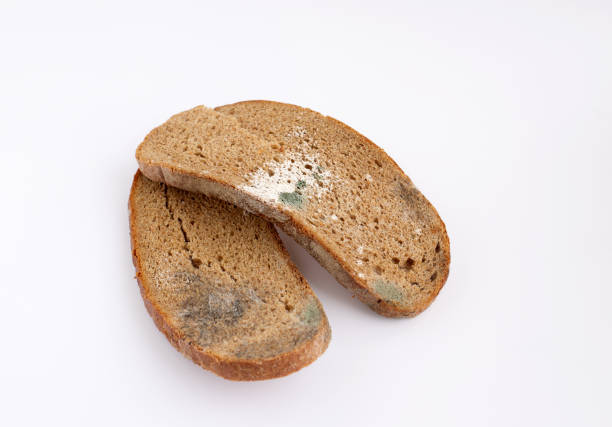mold_bread: (152, 261, 259, 337), (245, 151, 329, 220), (388, 178, 453, 239), (237, 333, 319, 369), (360, 275, 415, 315), (294, 300, 340, 330)
